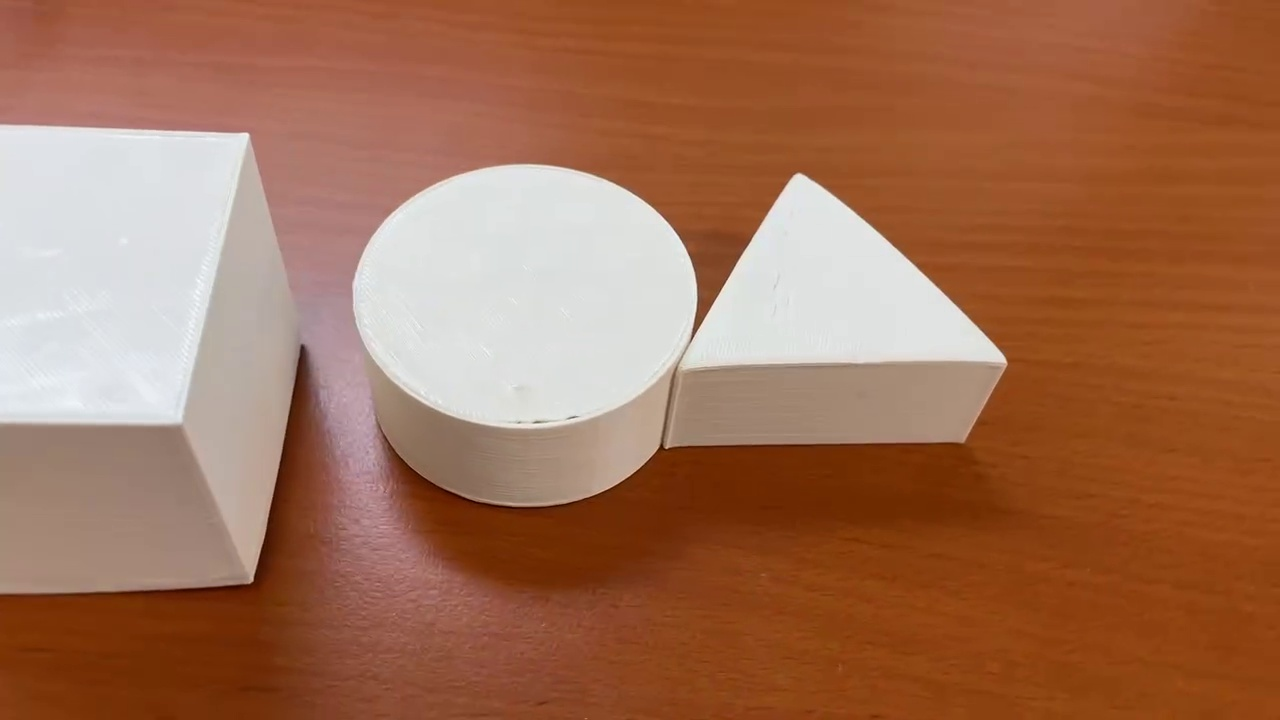Cube: (1, 122, 303, 595)
Cylinder_short: (354, 162, 698, 505)
Triangle_short: (667, 168, 1005, 444)
